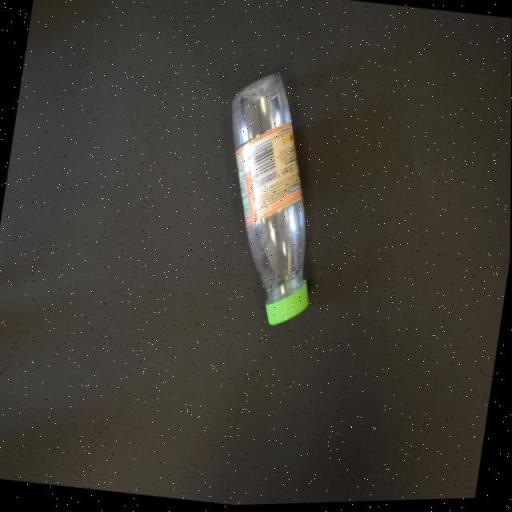plastic: (200, 67, 344, 336)
